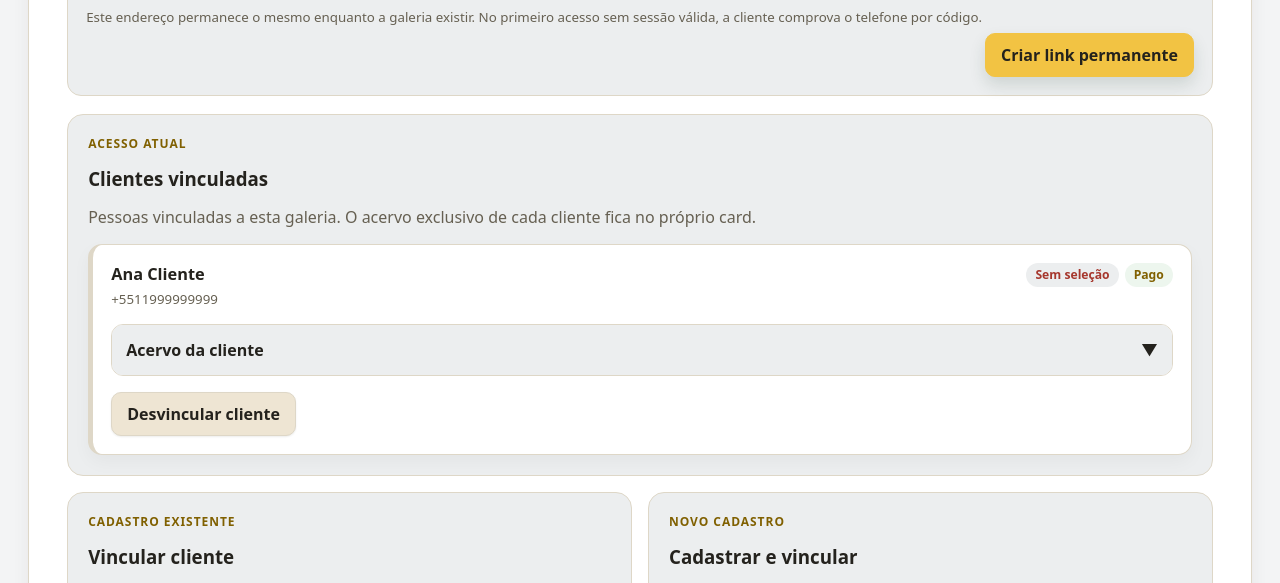
Test case: editor administrativo de galeria › mantém cliente vinculada no cadastro existente sem oferecer vínculo duplicado
(page scrolled)
Expected: the text "Sem seleção" is shown, [1026,262,1119,286]
Click the button "Acervo da cliente ▼".
click(195, 350)  # box [112,324,1172,374]
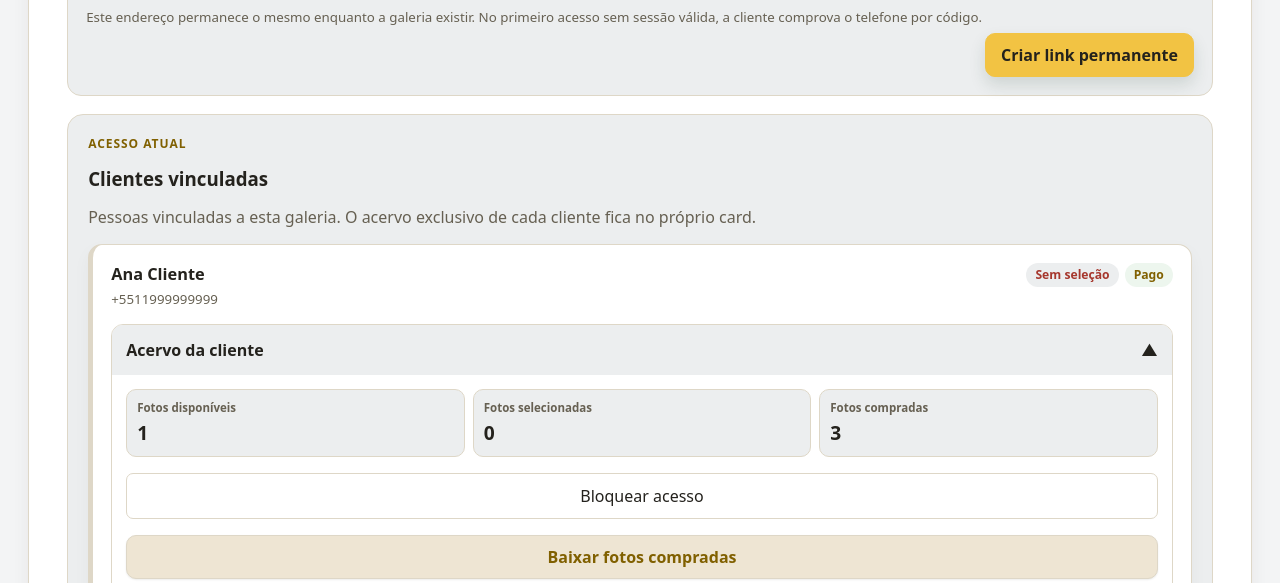
Expected: the text "Fotos disponíveis" is shown, [137,400,236,414]
Expected: the text "Fotos selecionadas" is shown, [484,400,592,414]
Expected: the text "Fotos compradas" is shown, [830,400,928,414]
